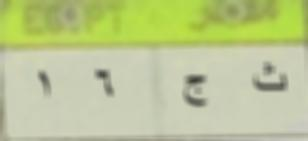1: (36, 68, 52, 101)
6: (91, 65, 116, 99)
jeem: (178, 72, 209, 111)
thaa: (248, 60, 289, 94)
